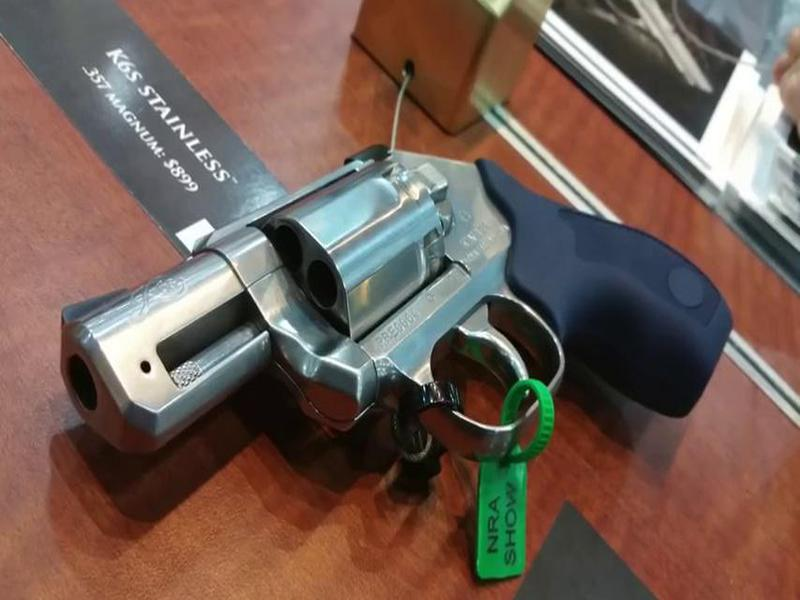Revolver: (20, 131, 699, 484)
